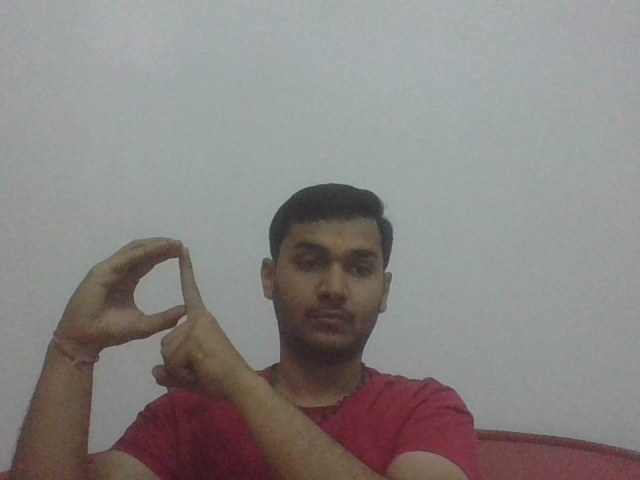D: (63, 231, 243, 393)
